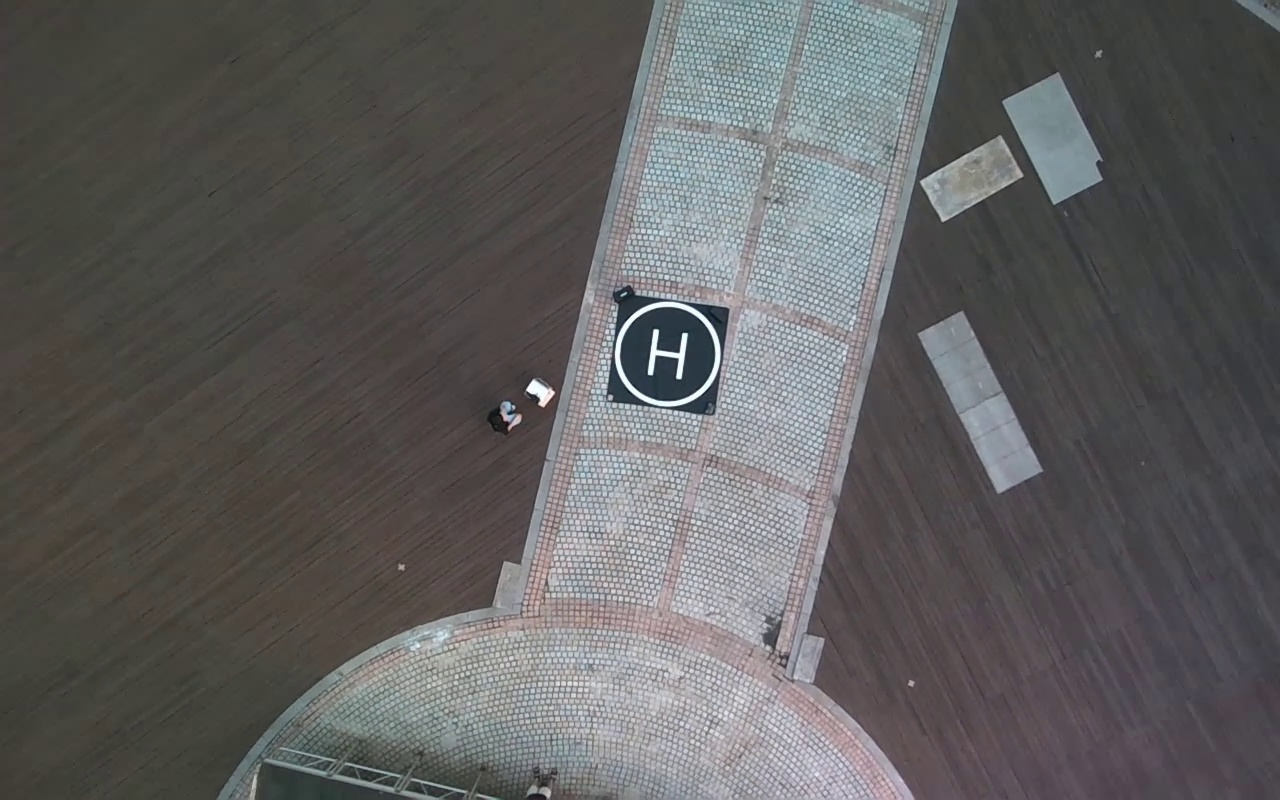H: (646, 330, 689, 381)
heliport: (615, 300, 721, 406)
